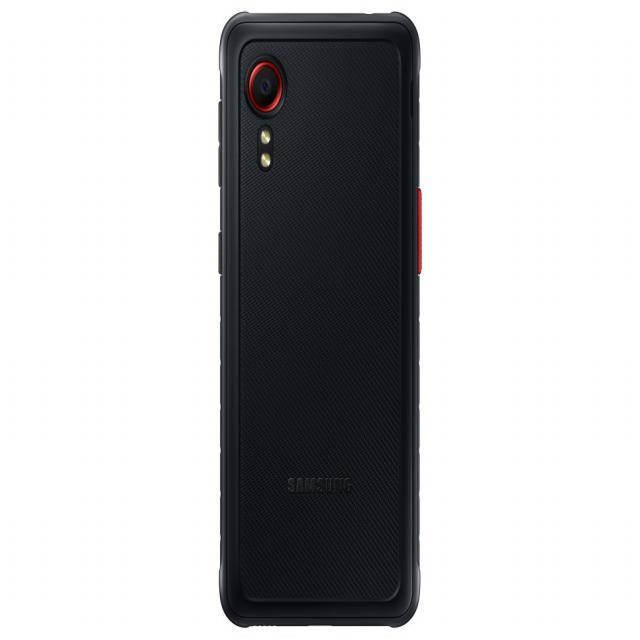phone: (218, 9, 423, 630)
